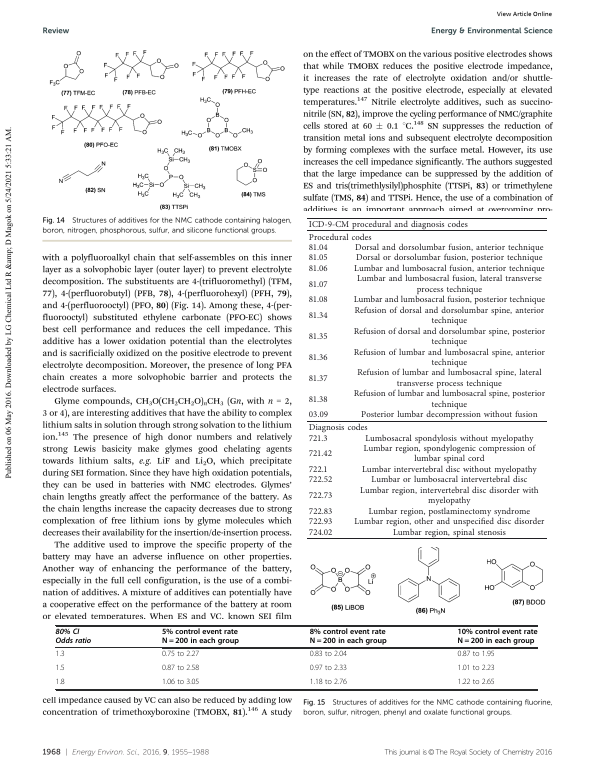borderless: (306, 216, 547, 538), (54, 624, 537, 689)
cell: (352, 389, 546, 411), (356, 274, 542, 296), (352, 327, 546, 348), (352, 348, 546, 369), (353, 306, 545, 327), (356, 369, 542, 390), (359, 486, 539, 507), (362, 444, 536, 465), (352, 295, 546, 306), (353, 264, 545, 275), (353, 517, 545, 528), (354, 243, 544, 254), (360, 410, 538, 421), (361, 465, 537, 476), (355, 254, 543, 264), (307, 220, 468, 231), (370, 475, 528, 486), (364, 434, 534, 444), (367, 507, 531, 517), (457, 628, 538, 646), (161, 628, 240, 646), (309, 628, 388, 646), (392, 528, 506, 538), (307, 423, 368, 434), (307, 233, 372, 243), (55, 628, 92, 645), (307, 449, 333, 460), (307, 475, 333, 486), (307, 491, 333, 502), (307, 517, 333, 528), (161, 651, 200, 658), (309, 651, 348, 658), (457, 651, 496, 658), (161, 665, 200, 672), (309, 665, 348, 672), (457, 665, 496, 672), (161, 679, 200, 686), (309, 679, 348, 686), (457, 679, 496, 686), (307, 507, 333, 517), (307, 528, 333, 538), (307, 410, 329, 421), (307, 243, 328, 254), (307, 264, 328, 275), (307, 295, 328, 306), (307, 311, 328, 322), (307, 332, 328, 343), (307, 353, 328, 364), (307, 465, 328, 476), (307, 254, 328, 264), (307, 280, 328, 290), (307, 374, 328, 384), (307, 395, 328, 405), (307, 434, 328, 444), (55, 651, 65, 658), (55, 665, 65, 672), (55, 679, 65, 686)
